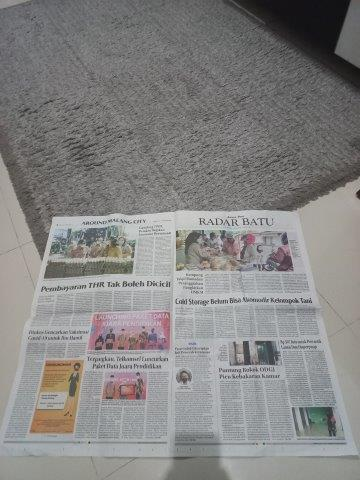kertas: (5, 210, 360, 458)
